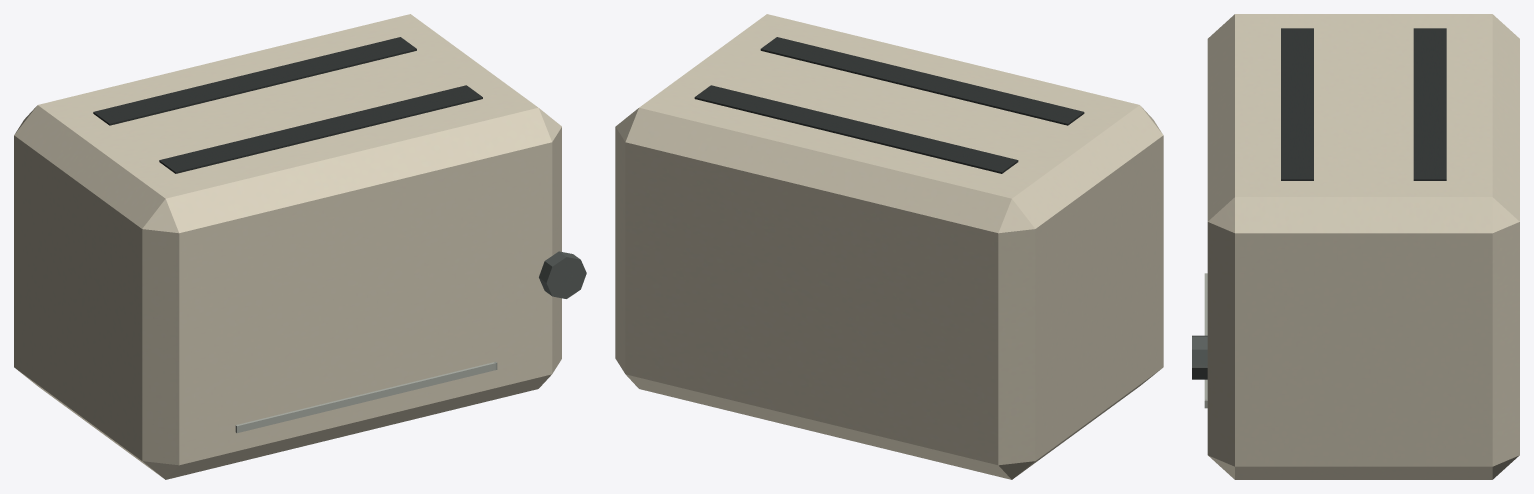
The model's file is toaster.glb.
3 renders of one model, left to right at view 1: azimuth 30°, elevation 25°; view 2: azimuth 150°, elevation 25°; view 3: azimuth 270°, elevation 25°, orthographic.
Parts seen in each view (by area): view 1: home_toaster; view 2: home_toaster; view 3: home_toaster.
Part boxes in pixels (x1,y1,x2,y2): home_toaster: (14, 14, 586, 479); home_toaster: (615, 14, 1163, 479); home_toaster: (1192, 14, 1519, 479).
Size of the model in its own units: 0.252 by 0.161 by 0.168.
Materials: 1 (1 with a texture image).
